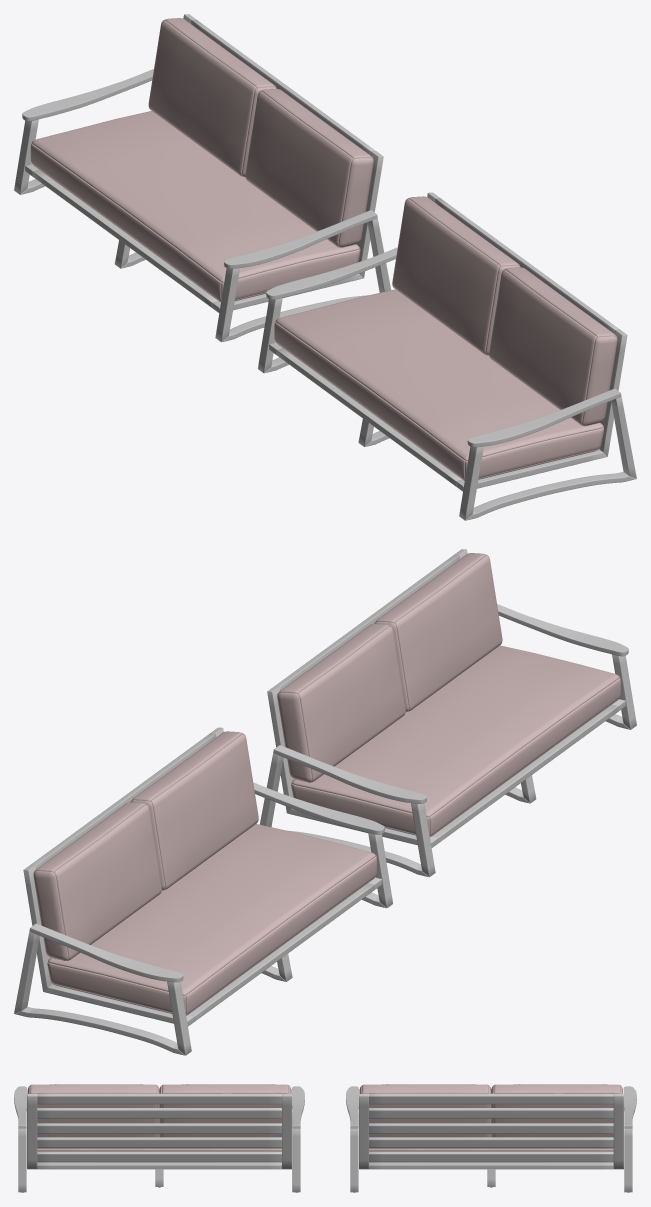
File: sala.obj
The picture shows the model from 3 angles, top to bottom: view 1: azimuth 30°, elevation 25°; view 2: azimuth 150°, elevation 25°; view 3: azimuth 270°, elevation 25°; orthographic projection. The views are drawn at different scales.
Visible parts, largest first — view 1: sala; view 2: sala; view 3: sala.
Boxes of the visible parts, box(x1,y1,x2,y2) form: sala: box(14, 14, 636, 520); sala: box(14, 549, 636, 1055); sala: box(14, 1084, 636, 1192).
Size of the model in its own units: 12.01 by 9.74 by 55.37.
